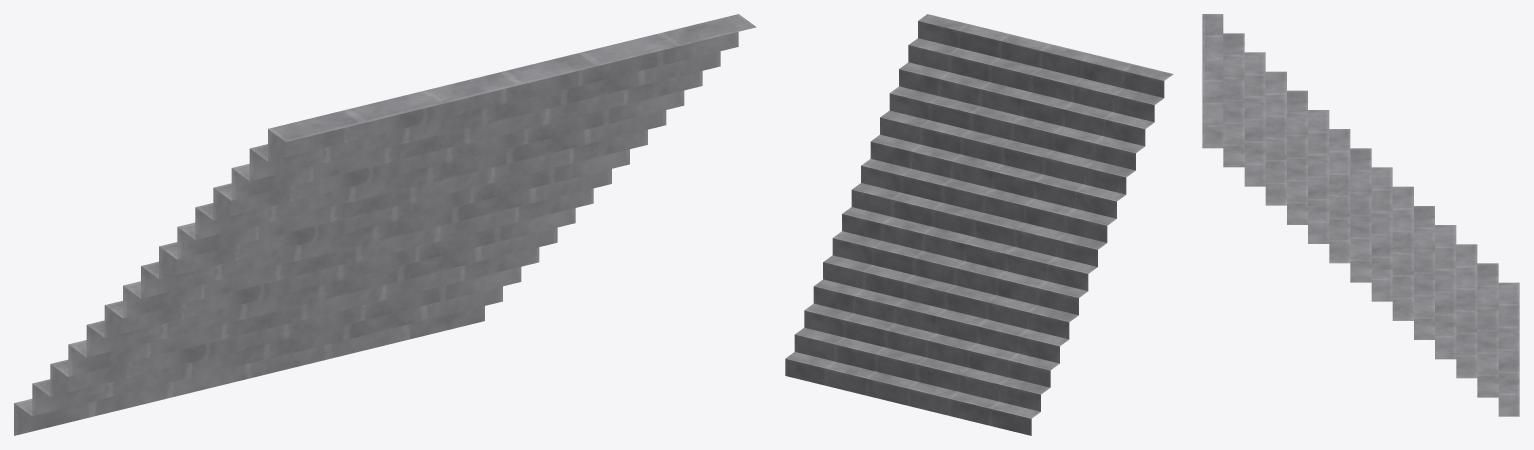
The model's file is Stair_3H_B.fbx.
3 views of the same model, side by side, from view 1: azimuth 30°, elevation 25°; view 2: azimuth 150°, elevation 25°; view 3: azimuth 270°, elevation 25° (orthographic). The views are drawn at different scales.
Parts seen in each view (by area): view 1: Stair_3H_B; view 2: Stair_3H_B; view 3: Stair_3H_B.
Boxes of the visible parts, x1,y1,x2,y2 form: Stair_3H_B: (14, 14, 756, 435); Stair_3H_B: (785, 14, 1173, 435); Stair_3H_B: (1202, 14, 1519, 416).
Size of the model in its own units: 3 by 3 by 3.
